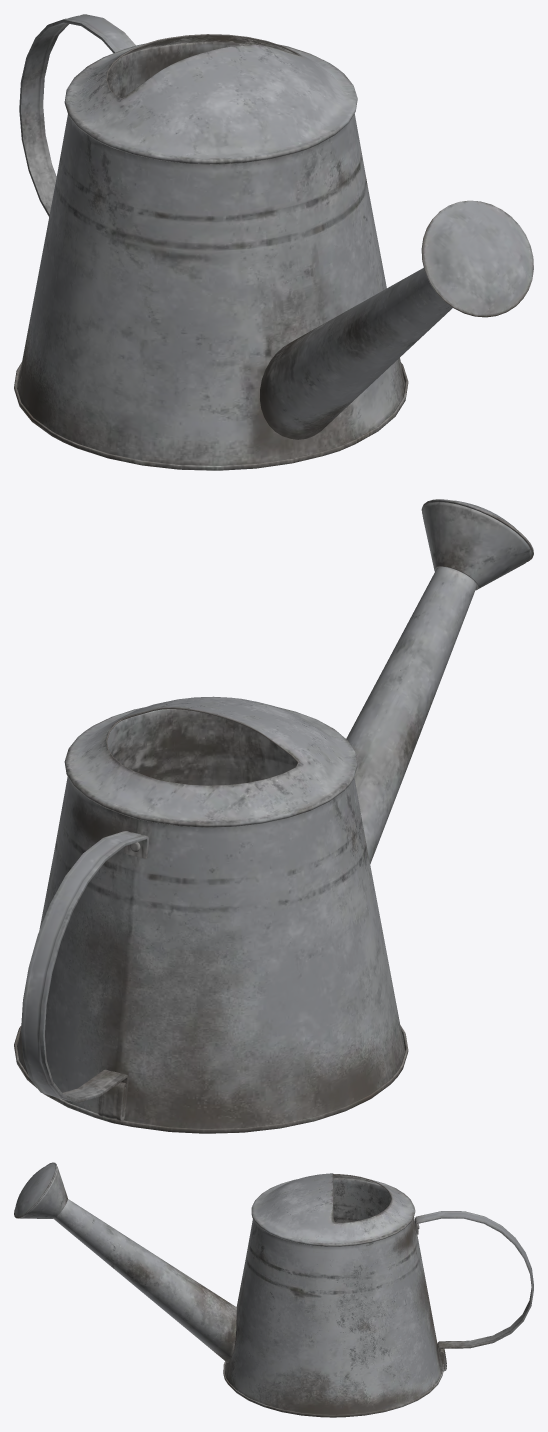
File: watering_can_metal_01.glb
3 renders of one model, top to bottom at view 1: azimuth 30°, elevation 25°; view 2: azimuth 150°, elevation 25°; view 3: azimuth 270°, elevation 25°, orthographic. The views are drawn at different scales.
Visible parts, largest first — view 1: watering_can_metal_01; view 2: watering_can_metal_01; view 3: watering_can_metal_01.
Boxes of the visible parts, left/top/right/bottom form: watering_can_metal_01: left=14, top=14, right=533, bottom=470; watering_can_metal_01: left=14, top=499, right=533, bottom=1133; watering_can_metal_01: left=14, top=1162, right=533, bottom=1417.
Bounding box in the file's own units: 0.191 × 0.1968 × 0.4523.
Materials: 1 (1 with a texture image).
